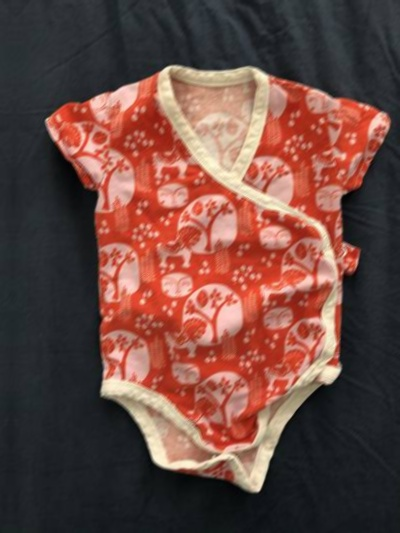Body: (51, 62, 386, 499)
